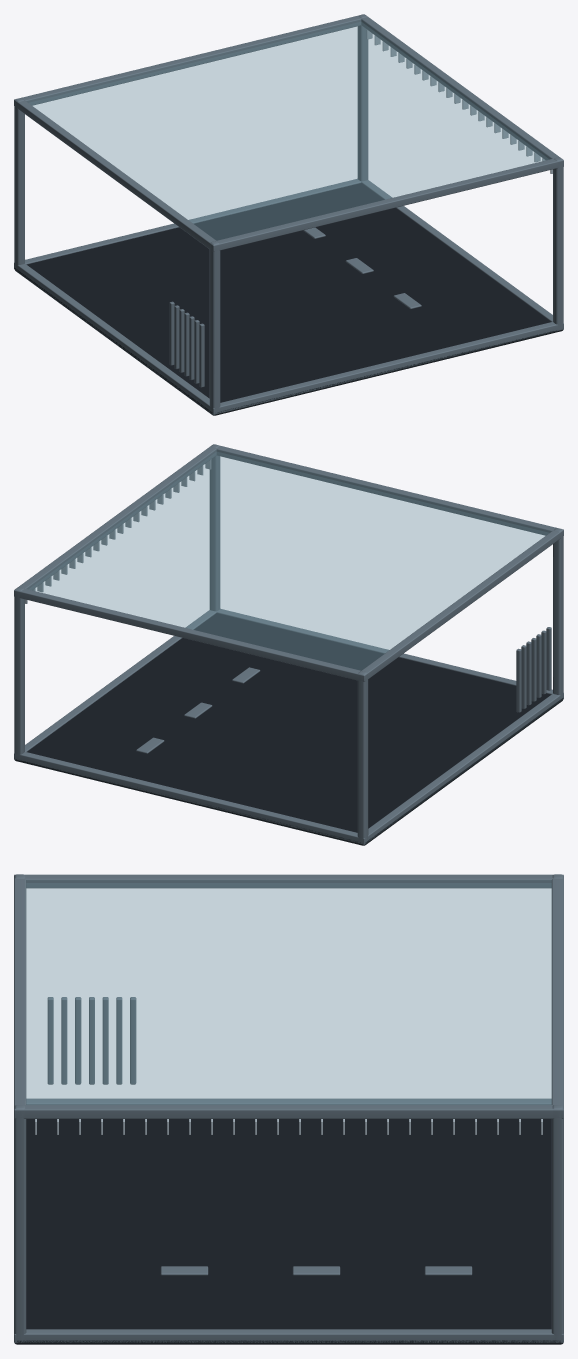
The model's file is narrow.glb.
3 renders of one model, top to bottom at view 1: azimuth 30°, elevation 25°; view 2: azimuth 150°, elevation 25°; view 3: azimuth 270°, elevation 25°, orthographic. The views are drawn at different scales.
Visible parts, largest first — view 1: narrow housing, SidePanel; view 2: narrow housing, SidePanel; view 3: narrow housing, SidePanel.
Boxes of the visible parts, x1,y1,x2,y2 form: narrow housing: (14,14,563,415); SidePanel: (27,19,551,240); narrow housing: (14,444,563,845); SidePanel: (26,449,550,670); narrow housing: (14,874,563,1344); SidePanel: (26,880,551,1104).
Bounding box in the file's own units: 365 × 172 × 360.
